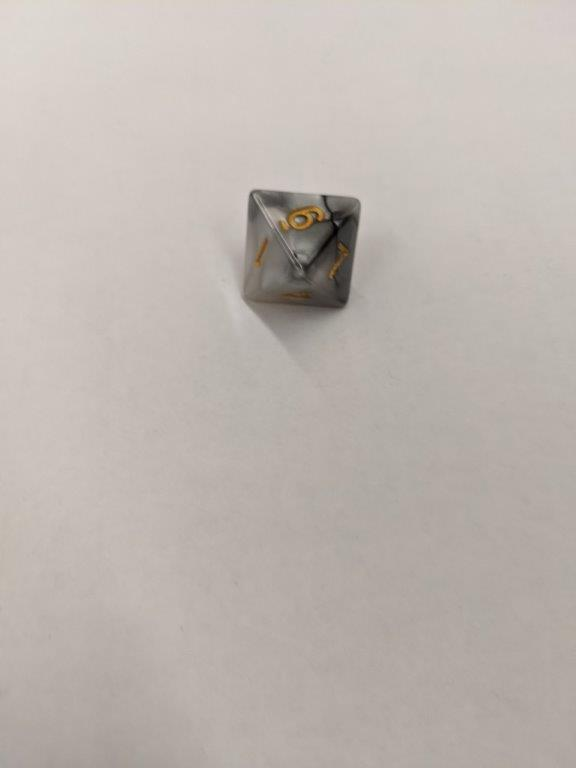d8-6: (240, 187, 365, 311)
